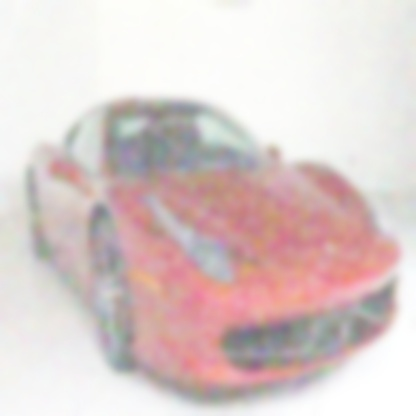Vehicle: (27, 99, 402, 394)
